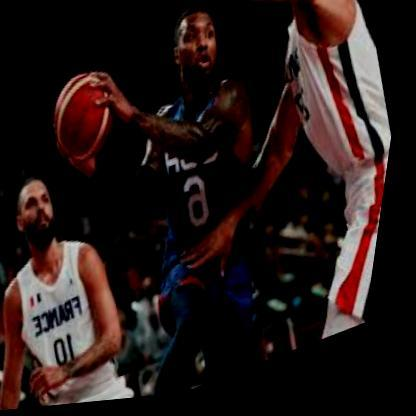basketball: (42, 65, 135, 173)
